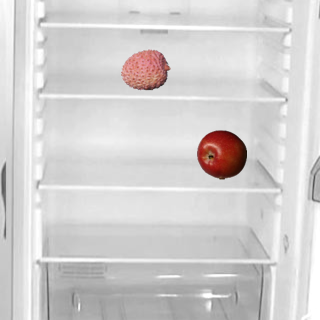Apple Braeburn: (196, 129, 246, 179)
Lychee: (120, 44, 170, 94)
